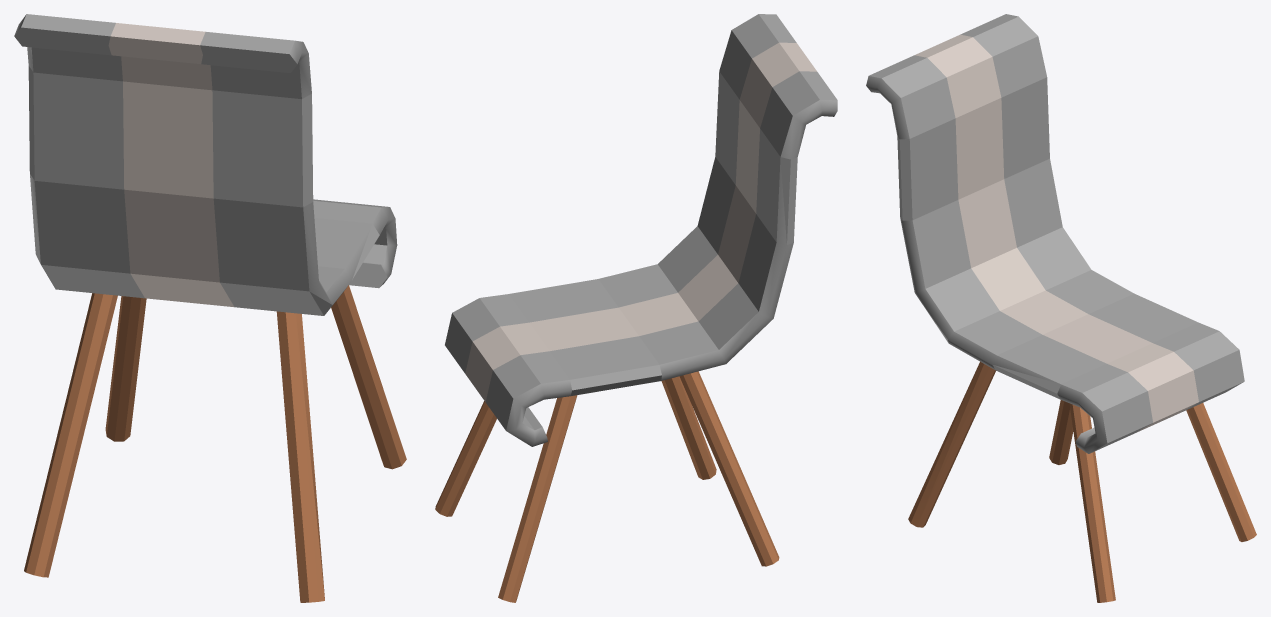
The model's file is o3_sedia_cucina_1.glb.
The picture shows the model from 3 angles, left to right: view 1: azimuth 30°, elevation 25°; view 2: azimuth 150°, elevation 25°; view 3: azimuth 270°, elevation 25°; orthographic projection. The views are drawn at different scales.
Parts seen in each view (by area): view 1: sb_modello; view 2: sb_modello; view 3: sb_modello.
Part boxes in pixels (x1,y1,x2,y2): sb_modello: [14, 14, 406, 602]; sb_modello: [435, 14, 837, 602]; sb_modello: [866, 14, 1256, 602].
Bounding box in the file's own units: 0.7174 × 0.9 × 0.7311.
1 material, 1 textured.
